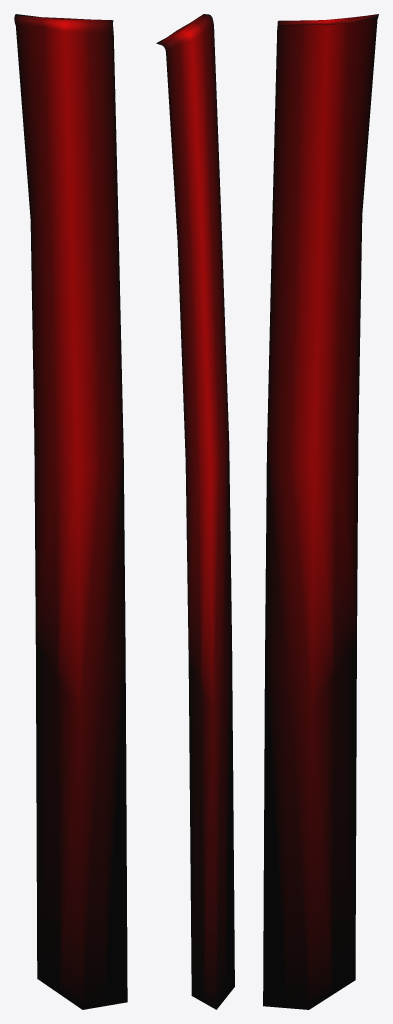
Rendered from Bathtop_Water_Flow_02.fbx.
3 views of the same model, side by side, from view 1: azimuth 90°, elevation 25°; view 2: azimuth 150°, elevation 25°; view 3: azimuth 270°, elevation 25° (orthographic). The views are drawn at different scales.
Visible parts, largest first — view 1: Bathtop_water_Flow_2; view 2: Bathtop_water_Flow_2; view 3: Bathtop_water_Flow_2.
Boxes of the visible parts, x1,y1,x2,y2 form: Bathtop_water_Flow_2: [14, 14, 127, 1009]; Bathtop_water_Flow_2: [156, 14, 234, 1009]; Bathtop_water_Flow_2: [263, 14, 378, 1009].
Size of the model in its own units: 428 by 13179 by 1375.
